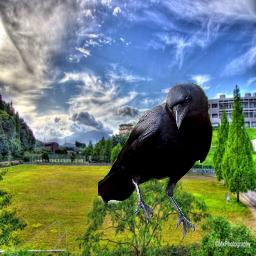Crow: (98, 83, 213, 240)
